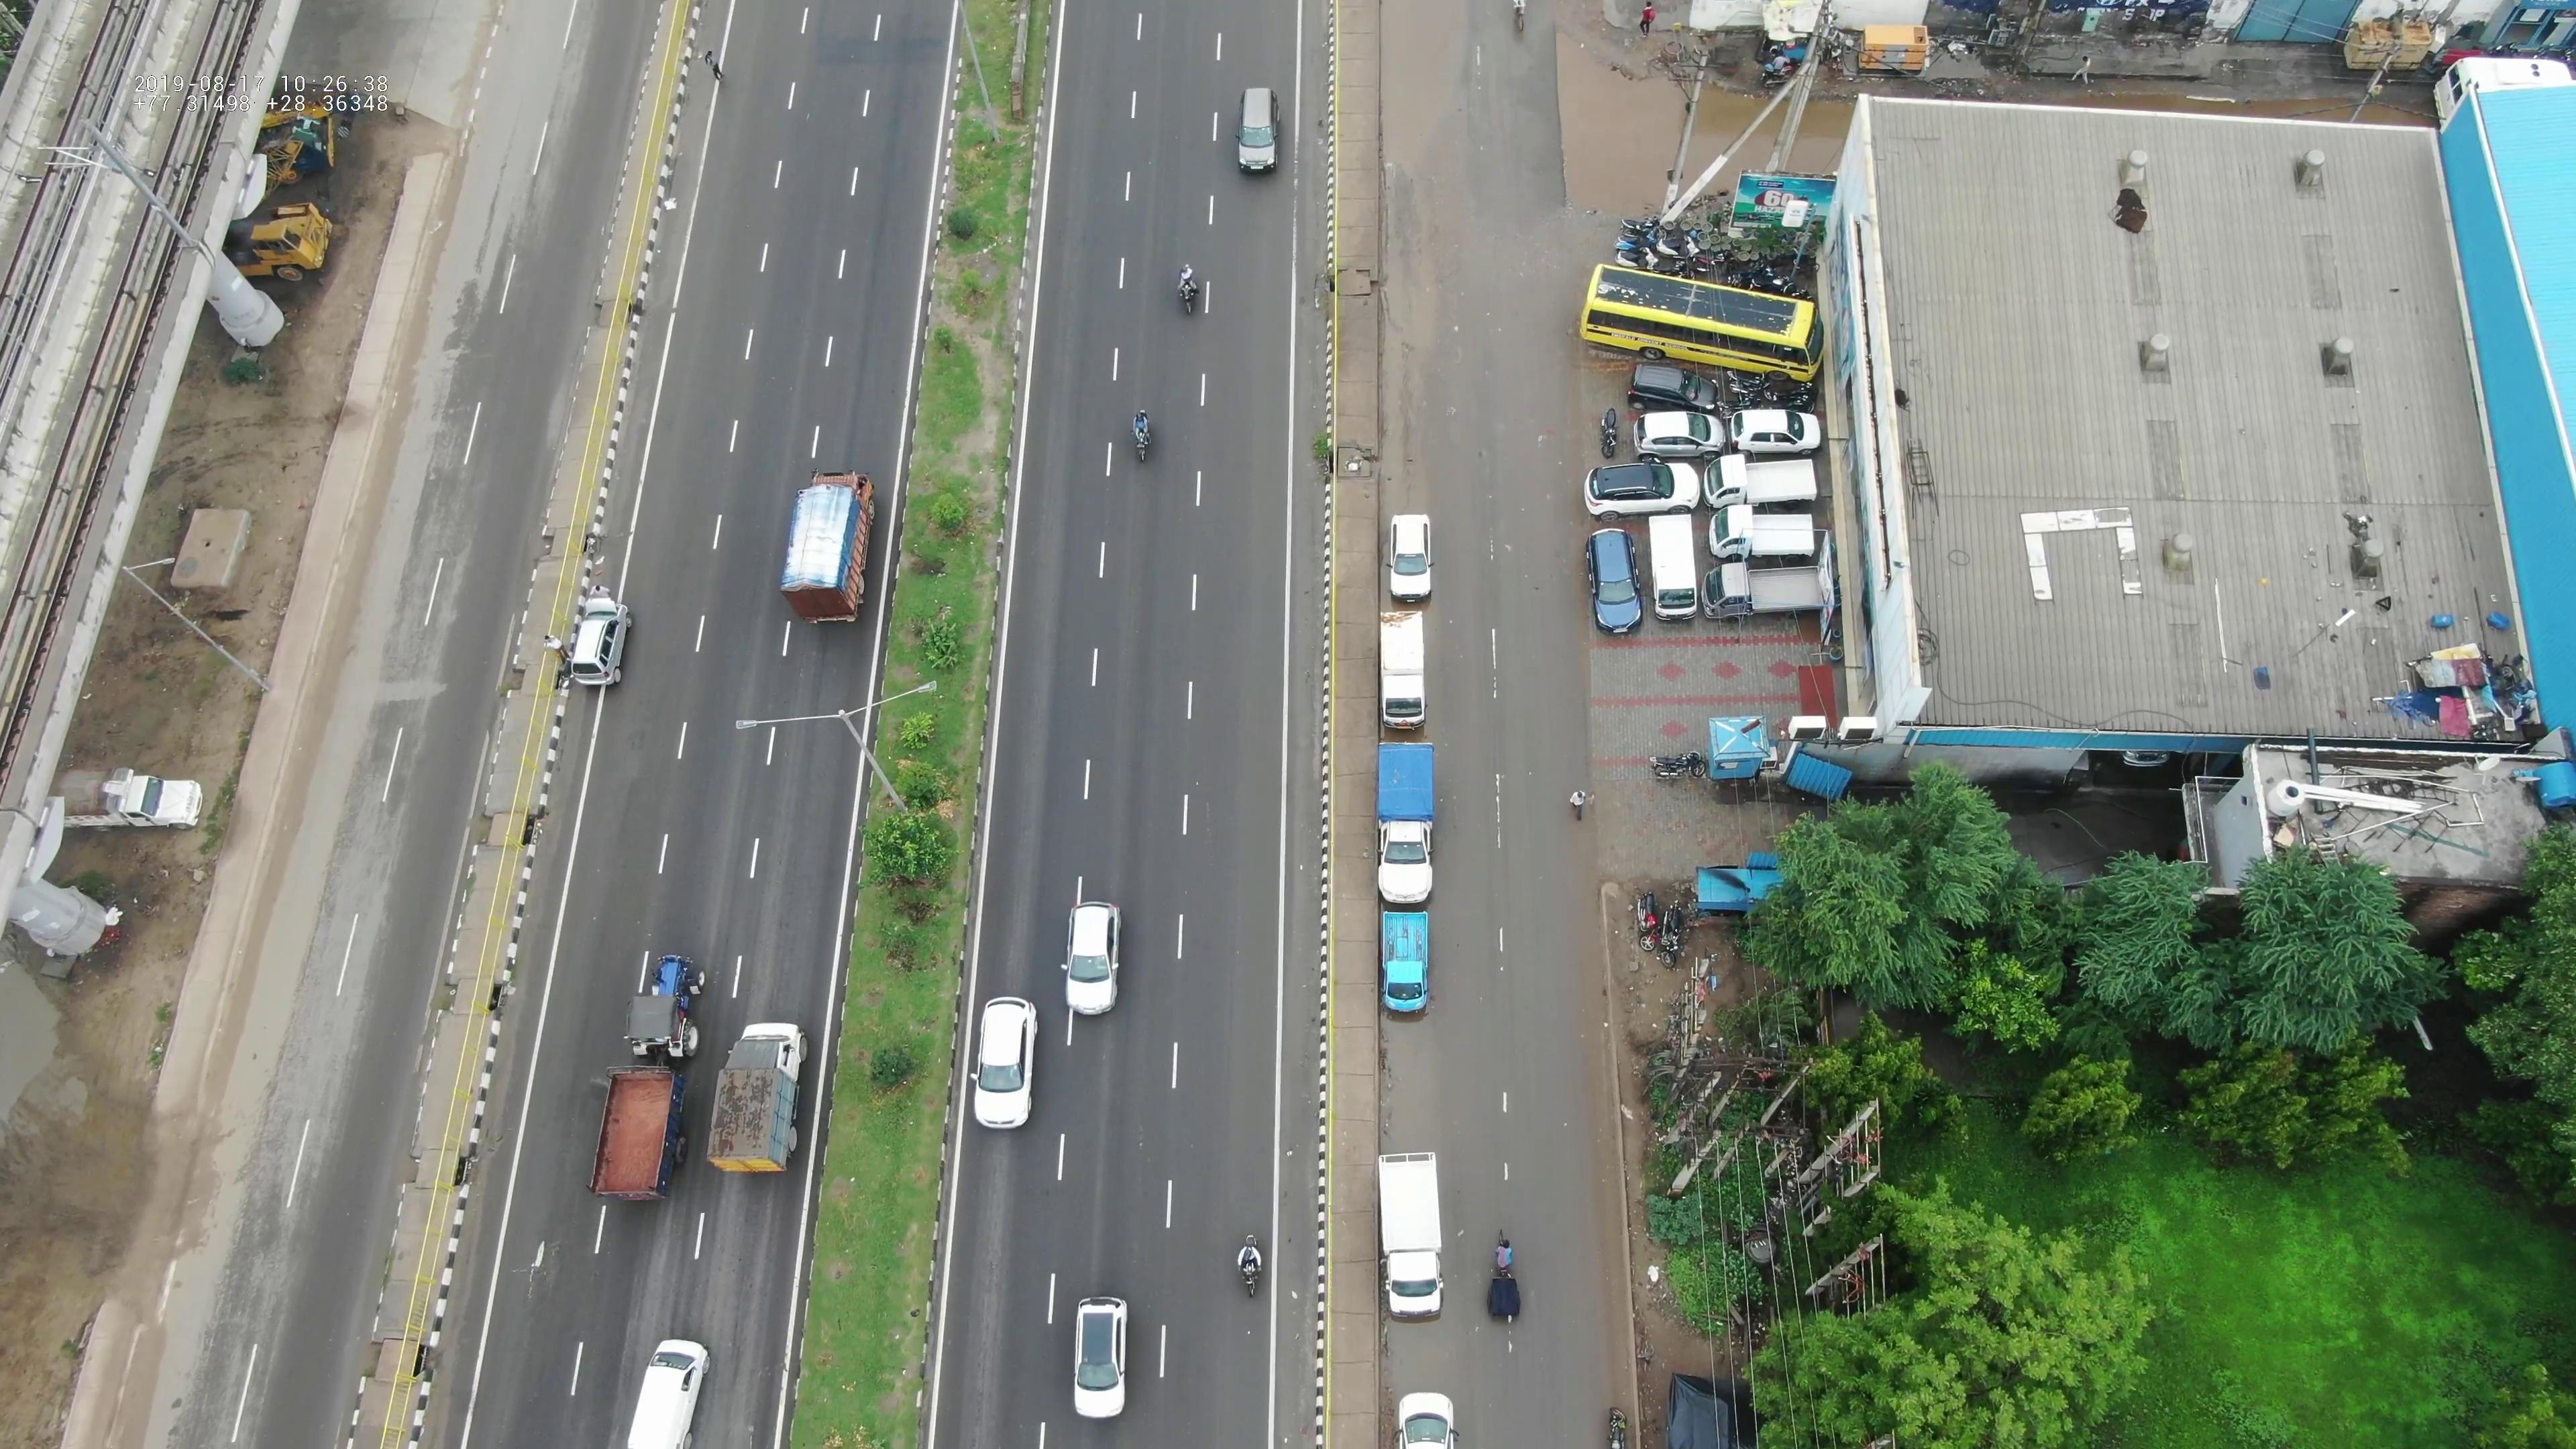Muddy_road: (1382, 193, 1451, 501), (297, 545, 364, 702), (1587, 1215, 1640, 1394), (352, 407, 410, 531), (380, 274, 430, 396), (421, 145, 464, 274), (1594, 987, 1626, 1155), (264, 761, 322, 840)
Waterlogging: (1369, 0, 1472, 163)
